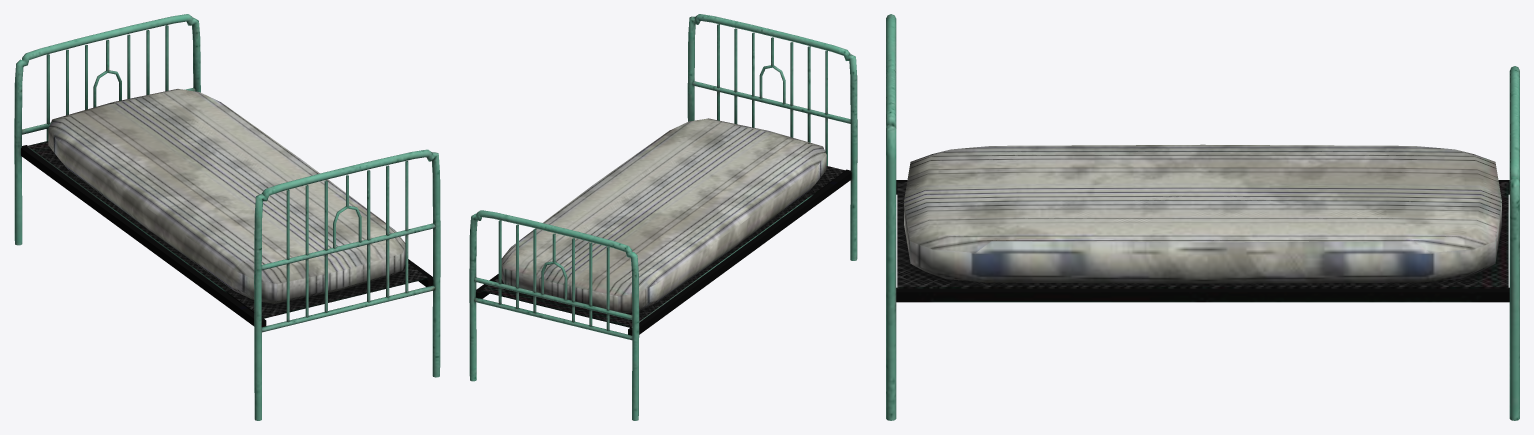
The model's file is bed_metal_lod1_web.glb.
3 renders of one model, left to right at view 1: azimuth 30°, elevation 25°; view 2: azimuth 150°, elevation 25°; view 3: azimuth 270°, elevation 25°, orthographic. The views are drawn at different scales.
Visible parts, largest first — view 1: BedMetal_Mesh; view 2: BedMetal_Mesh; view 3: BedMetal_Mesh.
Part boxes in pixels (x1,y1,x2,y2): BedMetal_Mesh: (14,14,440,420); BedMetal_Mesh: (469,14,857,420); BedMetal_Mesh: (886,14,1519,420).
Bounding box in the file's own units: 0.8764 × 1.04 × 1.99.
1 material, 1 textured.
